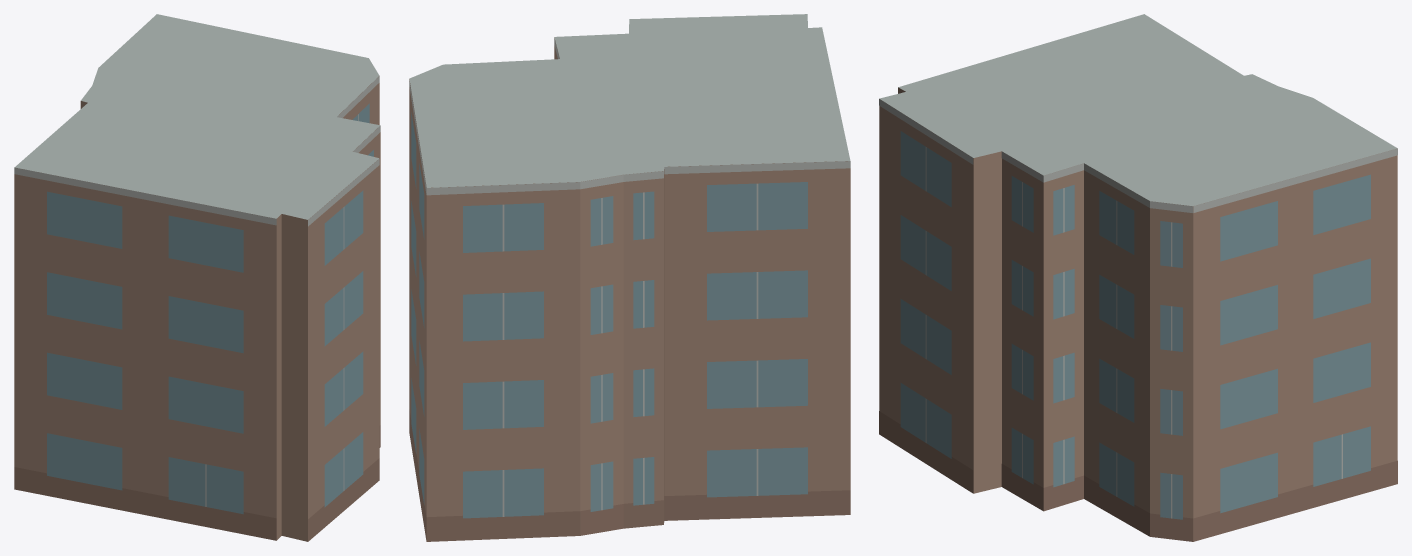
The model's file is survey-upis-33007856.glb.
3 renders of one model, left to right at view 1: azimuth 30°, elevation 25°; view 2: azimuth 150°, elevation 25°; view 3: azimuth 270°, elevation 25°, orthographic. The views are drawn at different scales.
Parts seen in each view (by area): view 1: survey-upis-33007856.tmp; view 2: survey-upis-33007856.tmp; view 3: survey-upis-33007856.tmp.
Boxes of the visible parts, x1,y1,x2,y2 form: survey-upis-33007856.tmp: (14,14,380,541); survey-upis-33007856.tmp: (409,14,850,541); survey-upis-33007856.tmp: (879,14,1397,541).
Size of the model in its own units: 14.38 by 11.7 by 16.39.
